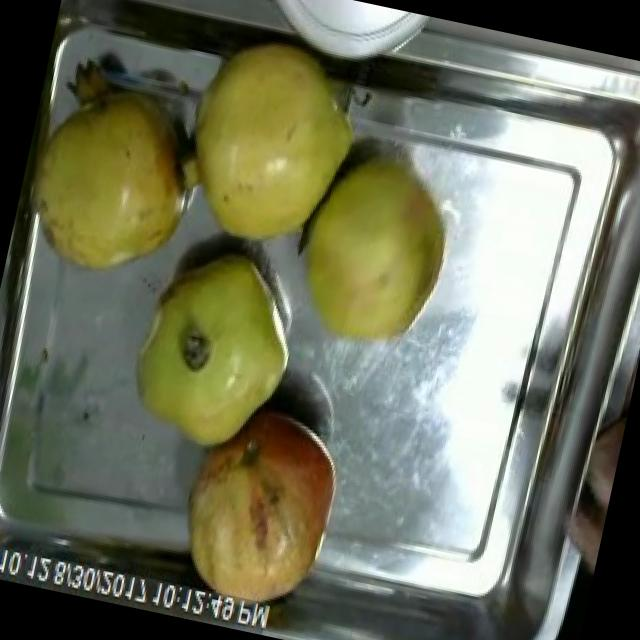fruit: (2, 46, 228, 310), (156, 16, 382, 277), (156, 384, 354, 640), (110, 229, 316, 470), (272, 142, 470, 374), (554, 394, 630, 593)
